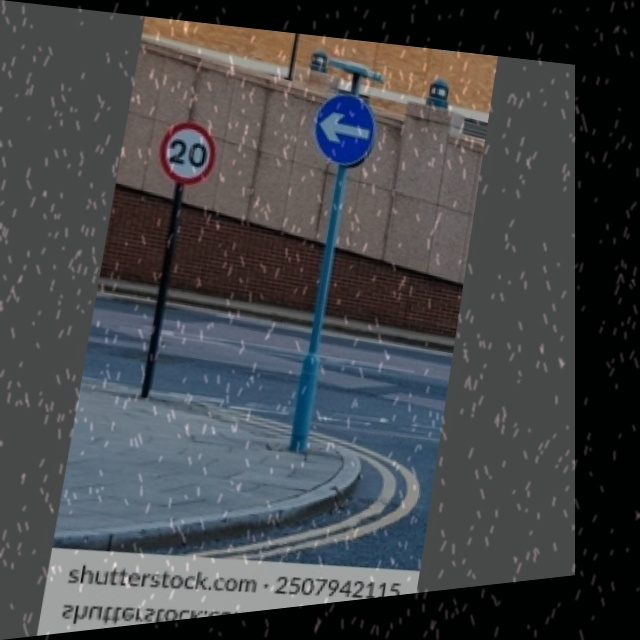Compulsory_Turn_Left: (306, 84, 382, 172)
